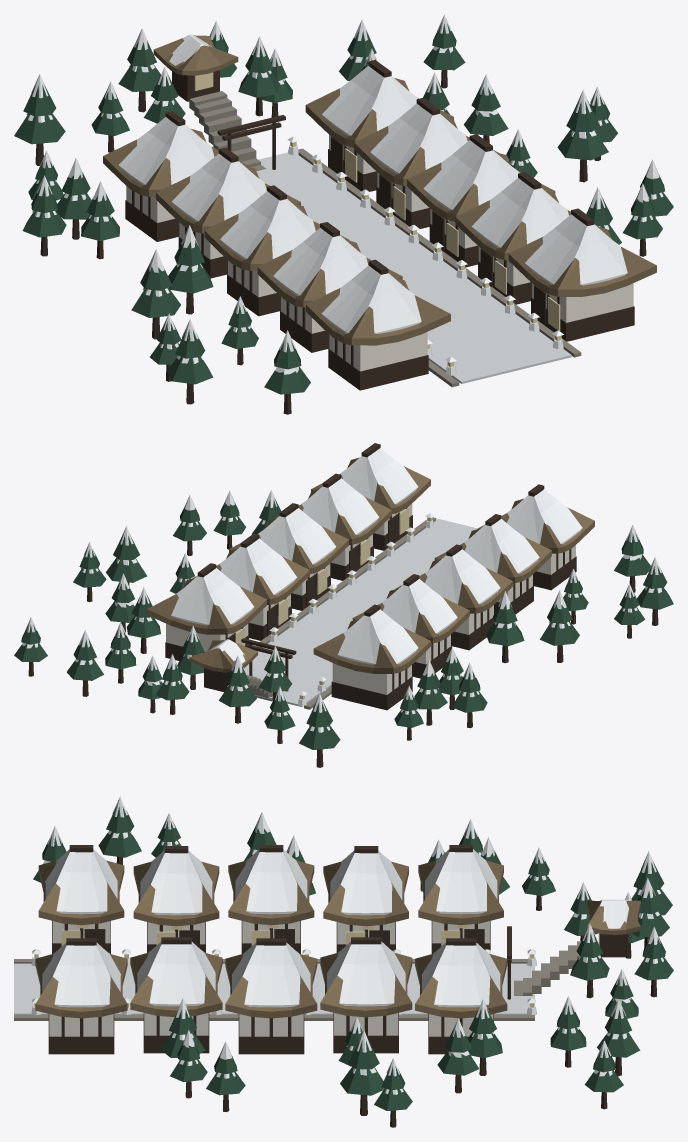
Rendered from ouchi-juku.glb.
3 renders of one model, top to bottom at view 1: azimuth 30°, elevation 25°; view 2: azimuth 150°, elevation 25°; view 3: azimuth 270°, elevation 25°, orthographic. The views are drawn at different scales.
Visible parts, largest first — view 1: ouchi_snow, ouchi_fir, ouchi_thatch, ouchi_wood, ouchi_street, ouchi_plaster, ouchi_stone, glow_screens; view 2: ouchi_snow, ouchi_fir, ouchi_thatch, ouchi_wood, ouchi_street, ouchi_plaster, ouchi_stone, glow_screens; view 3: ouchi_snow, ouchi_thatch, ouchi_fir, ouchi_wood, ouchi_plaster, ouchi_street, ouchi_stone, glow_screens.
Boxes of the visible parts, x1,y1,x2,y2 form: ouchi_snow: (26,14,663,375); ouchi_fir: (14,23,673,394); ouchi_thatch: (103,35,656,345); ouchi_wood: (35,60,655,414); ouchi_street: (256,152,571,383); ouchi_plaster: (126,134,633,371); ouchi_stone: (189,91,581,387); glow_screens: (194,72,560,330); ouchi_snow: (22,448,665,732); ouchi_fir: (14,499,673,749); ouchi_thatch: (147,457,594,673); ouchi_wood: (28,443,658,767); ouchi_street: (244,519,477,706); ouchi_plaster: (166,503,575,694); ouchi_stone: (246,517,436,709); glow_screens: (231,507,409,646); ouchi_snow: (31,796,663,1094); ouchi_thatch: (35,860,640,1018); ouchi_fir: (33,806,673,1110); ouchi_wood: (48,845,656,1127); ouchi_plaster: (49,921,493,1036); ouchi_street: (14,963,534,1014); ouchi_stone: (14,941,581,1020); glow_screens: (61,924,599,946).
Size of the model in its own units: 19.85 by 3.62 by 20.52.
